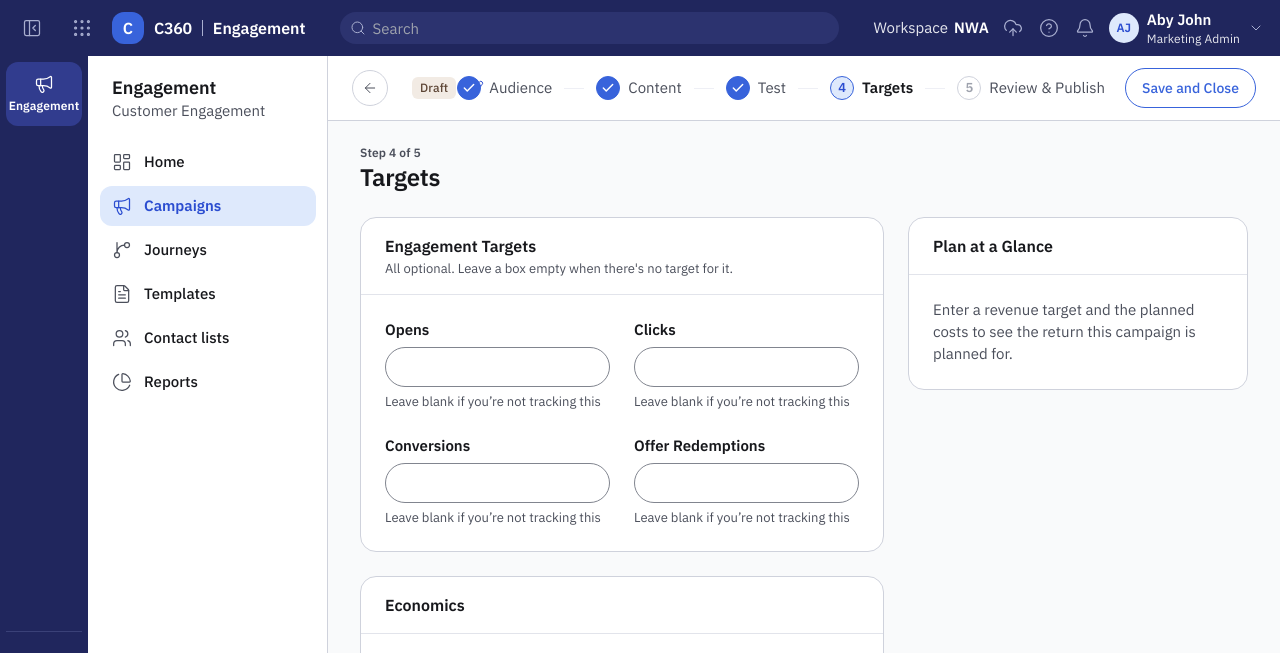
Test: an email campaign has Opens, Clicks, Conversions and Offer Redemptions, each with its share of the estimated recipients
The image size is (1280, 653).
Expected: the heading "Targets" is shown, x1=360 y1=161 x2=440 y2=193
Expected: the heading "Engagement Targets" is shown, x1=385 y1=234 x2=536 y2=258
Type "44" into the field labelled "Clicks" at {"x": 748, "y": 367}, box x1=643 y1=348 x2=854 y2=386
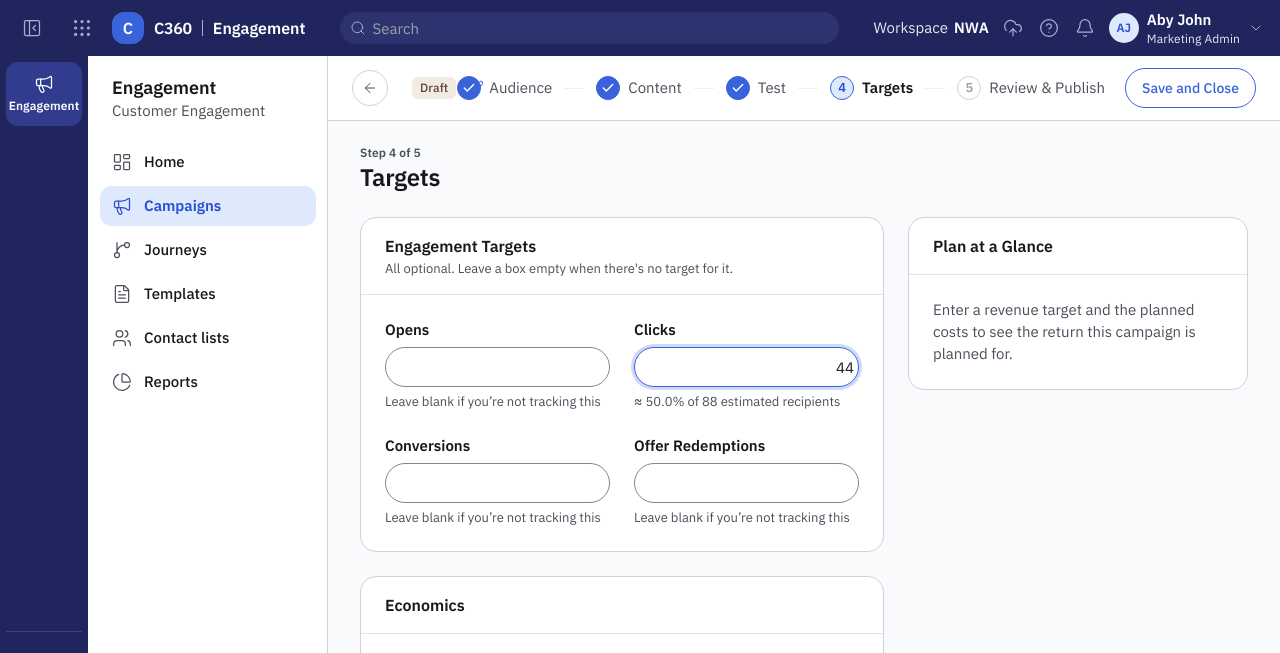
Now the text "≈ 50.0% of 88 estimated recipients" is shown, box x1=634 y1=393 x2=859 y2=411
Type "1200" into the field labelled "Conversions" at {"x": 500, "y": 483}, box x1=394 y1=464 x2=605 y2=502
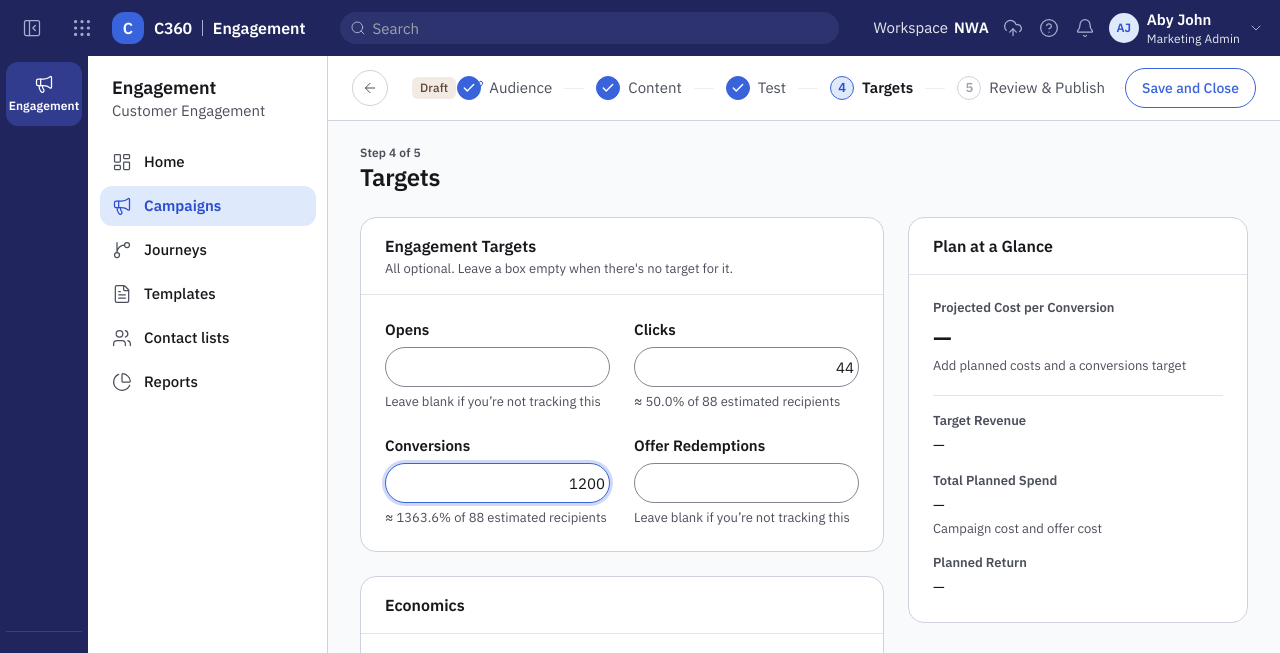
Press Tab
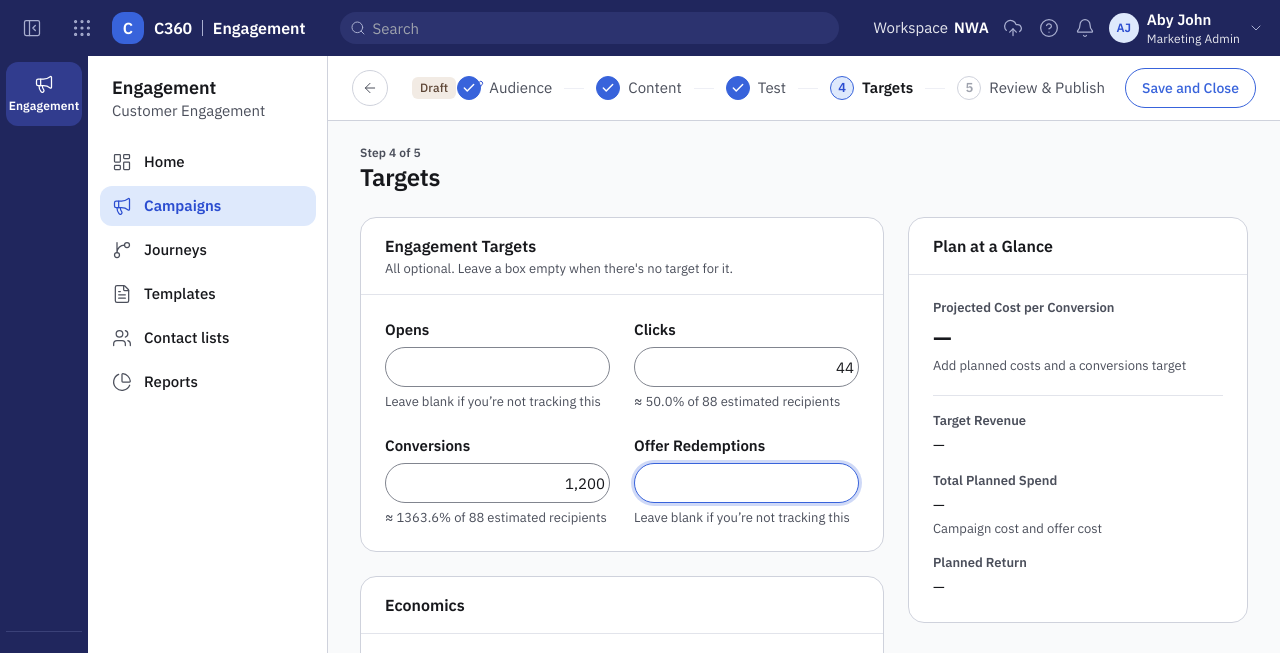
Expected: the field labelled "Offer Redemptions" is empty, x1=643 y1=464 x2=854 y2=502
Now the field labelled "Conversions" holds "1,200", box x1=394 y1=464 x2=605 y2=502
